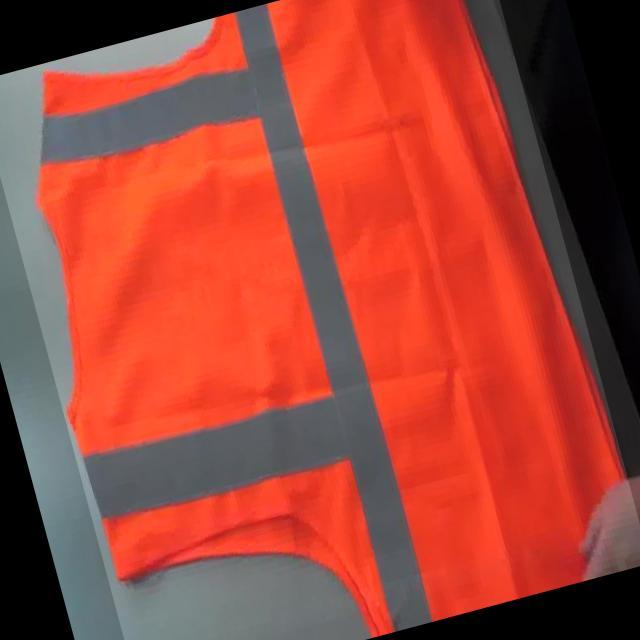bare-arms: (582, 474, 640, 594)
